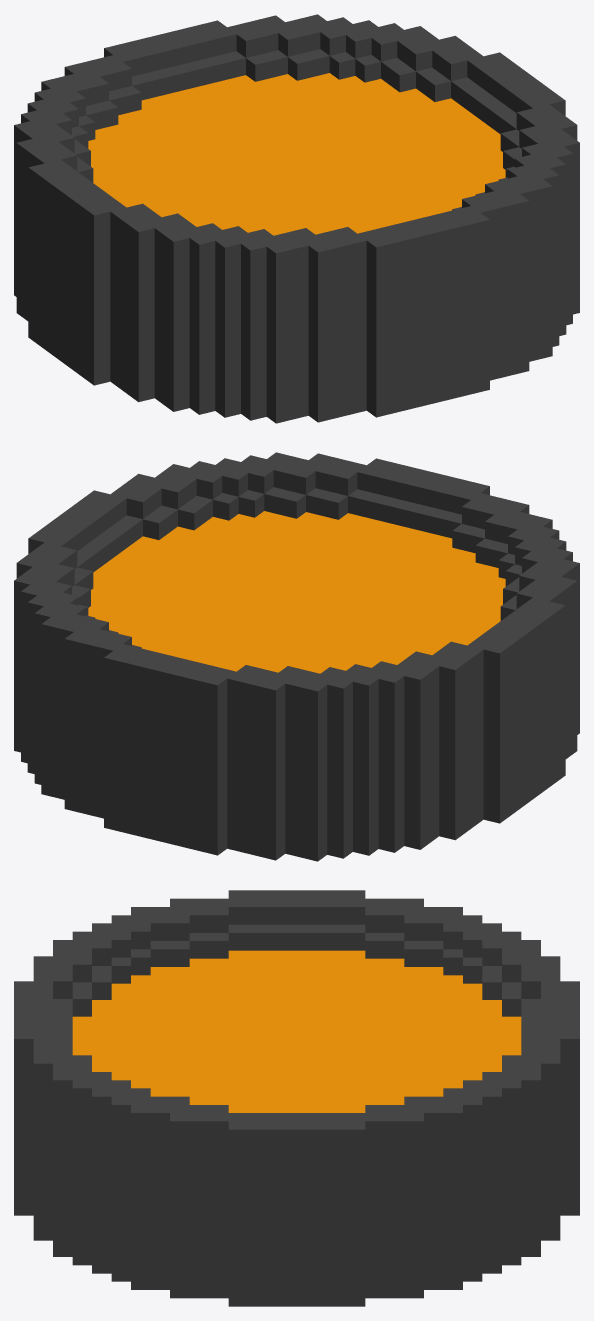
Rendered from LavaCrater.dae.
3 views of the same model, one above another, from view 1: azimuth 30°, elevation 25°; view 2: azimuth 150°, elevation 25°; view 3: azimuth 270°, elevation 25° (orthographic). The views are drawn at different scales.
Visible parts, largest first — view 1: lavacrater.merged; view 2: lavacrater.merged; view 3: lavacrater.merged.
Boxes of the visible parts, <box> form: lavacrater.merged: <box>14,14,579,423</box>; lavacrater.merged: <box>14,452,579,861</box>; lavacrater.merged: <box>14,890,579,1306</box>.
Bounding box in the file's own units: 2.9 × 1 × 2.9.
1 material, 1 textured.
